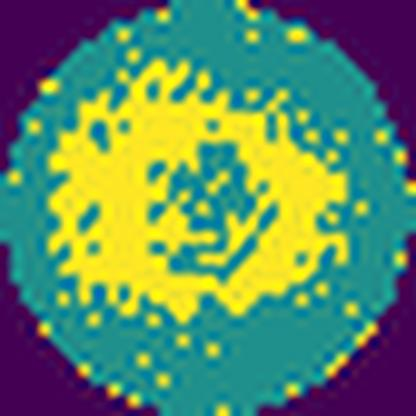Donut: (40, 43, 363, 343)
